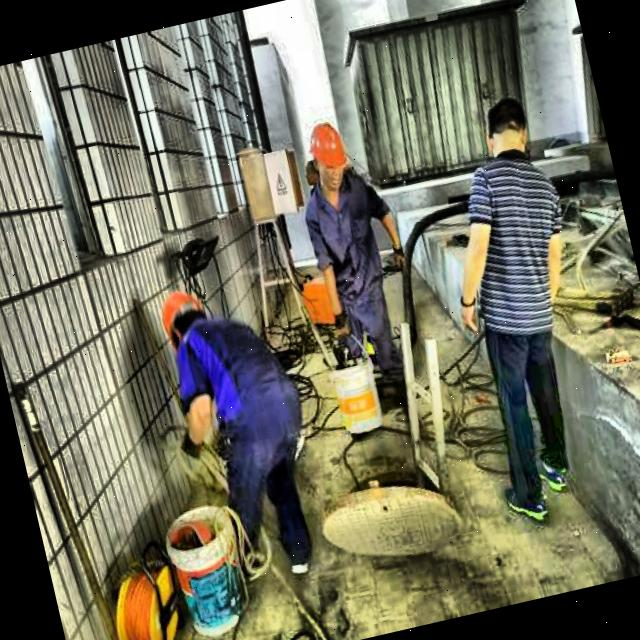helmet: (301, 115, 354, 198), (150, 285, 214, 352)
